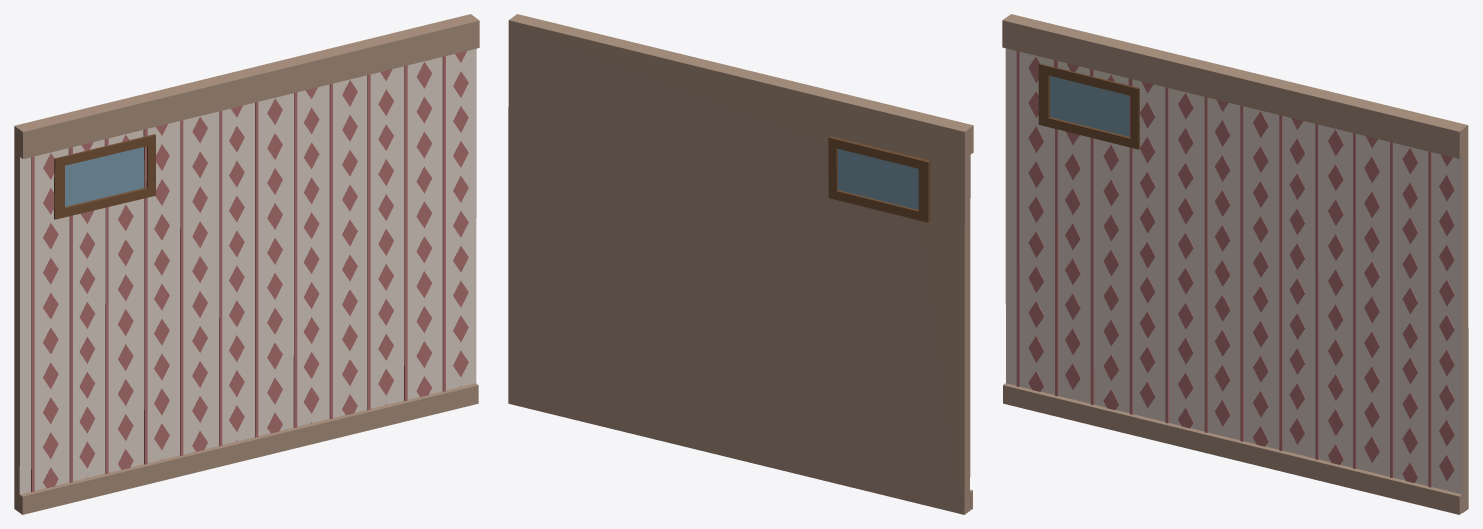
File: Wall_14.fbx
The picture shows the model from 3 angles, left to right: view 1: azimuth 30°, elevation 25°; view 2: azimuth 150°, elevation 25°; view 3: azimuth 330°, elevation 25°; orthographic projection.
Visible parts, largest first — view 1: Wall_14; view 2: Wall_14; view 3: Wall_14.
Boxes of the visible parts, box(x1,y1,x2,y2) form: Wall_14: box(14, 14, 479, 514); Wall_14: box(508, 14, 973, 514); Wall_14: box(1002, 14, 1468, 514).
Bounding box in the file's own units: 489 × 21.1 × 392.
